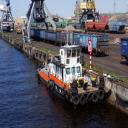tugboat: (38, 17, 106, 112)
